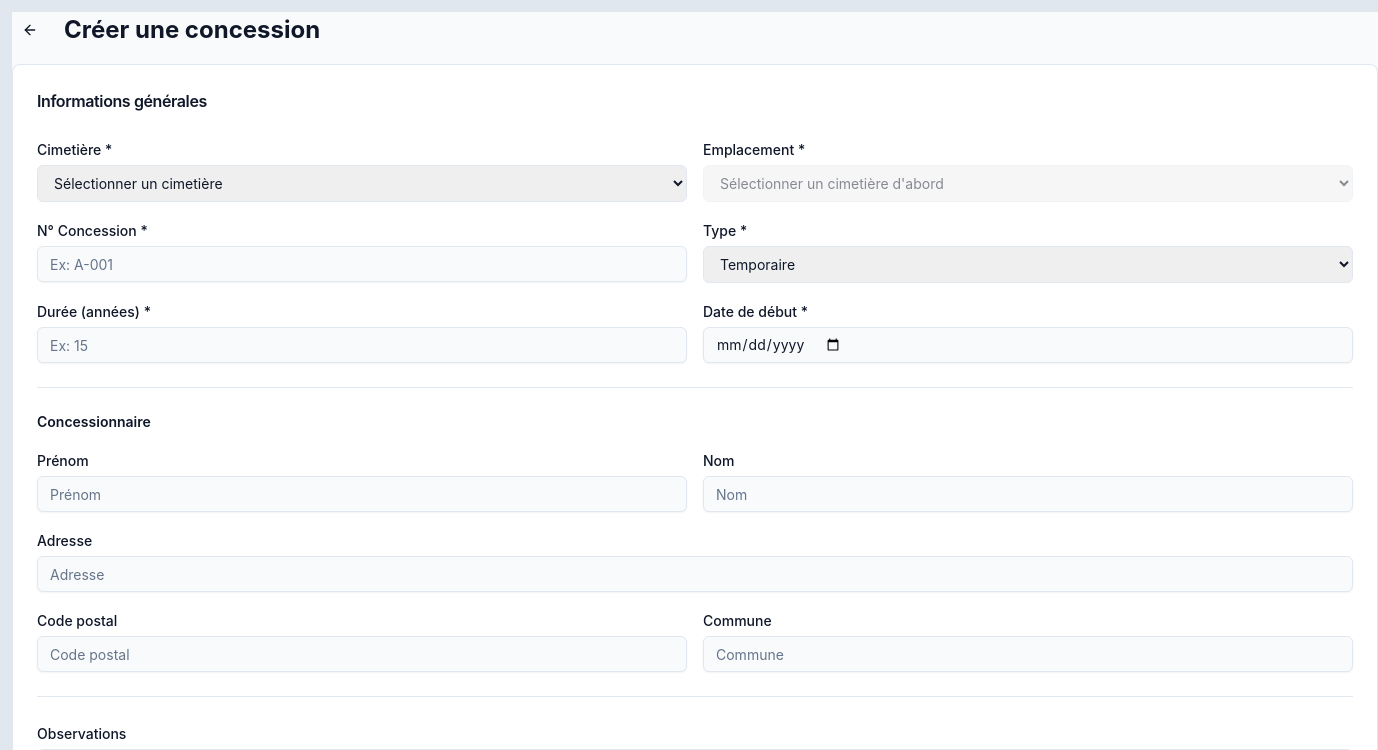
Test: ConcessionCreatePage › adapts duration field for different types
Check: the number field labelled "Durée (années) *" is shown, box [37,327,687,363]
# Select TRENTENAIRE - should show read-only "30 ans"
Select "30 ans" in the dropdown labelled "Type *" at (1028, 264), box [703,246,1353,283]
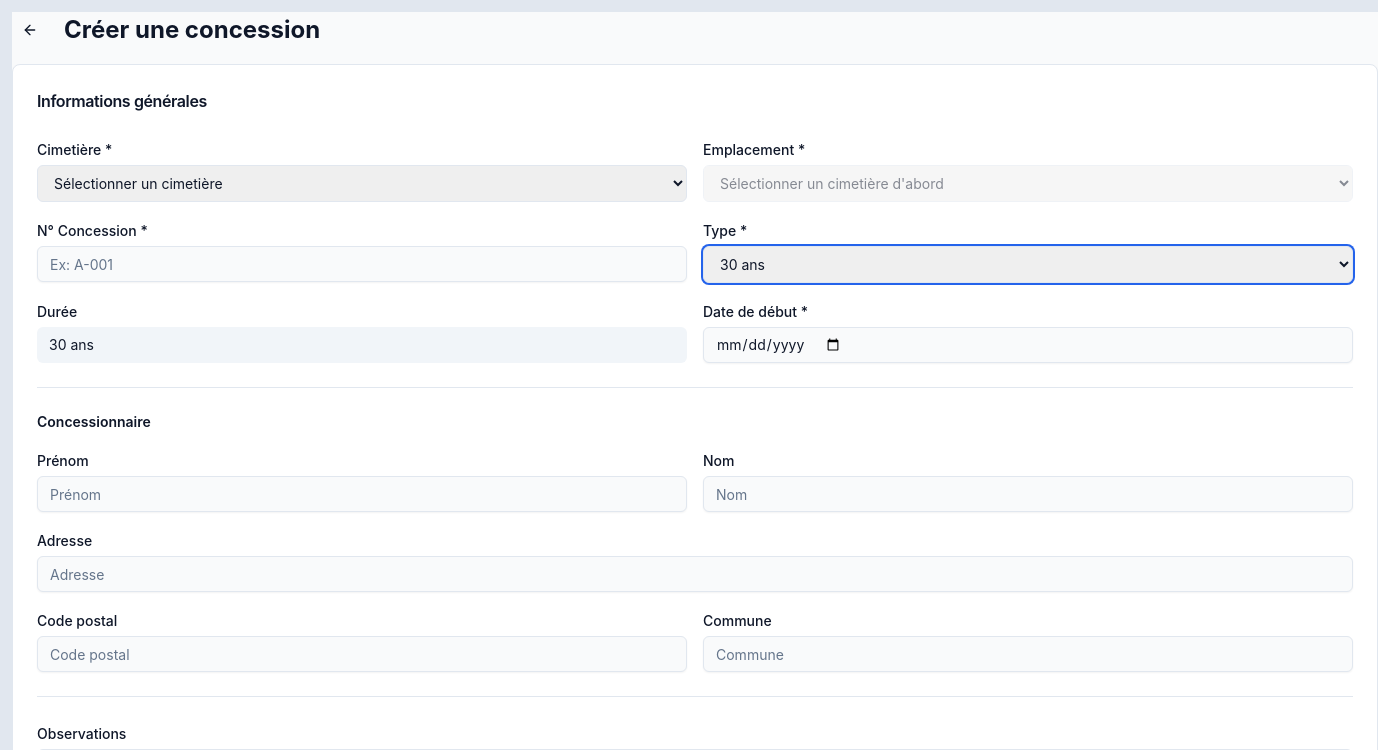
Check: the text "Durée" is shown, box [37,303,77,320]
Check: the label labelled "Durée (années)" is gone
# Select CINQUANTENAIRE - should show read-only "50 ans"
Select "50 ans" in the dropdown labelled "Type *" at (1028, 264), box [703,246,1353,283]
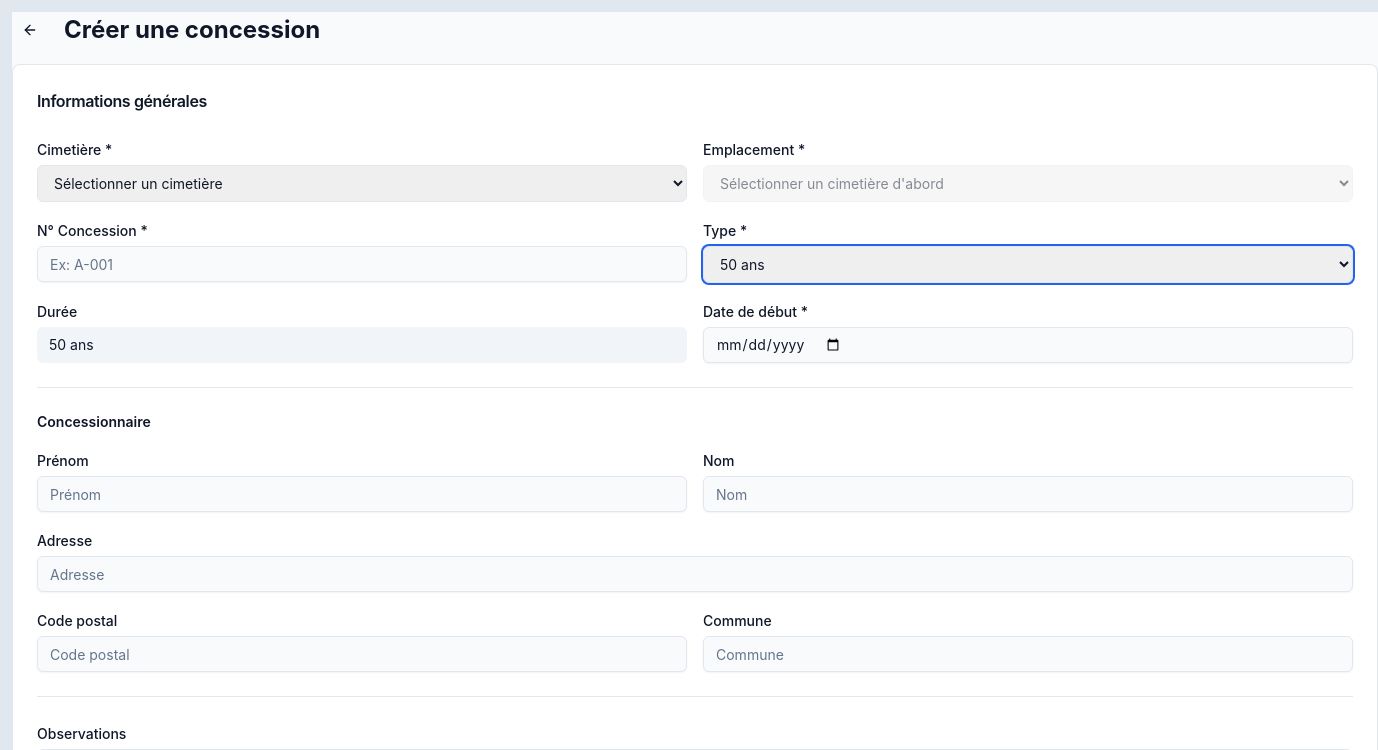
Check: the label labelled "Durée (années)" is not shown
# Select PERPETUELLE - should hide duration completely
Select "Perpétuelle" in the dropdown labelled "Type *" at (1028, 264), box [703,246,1353,283]
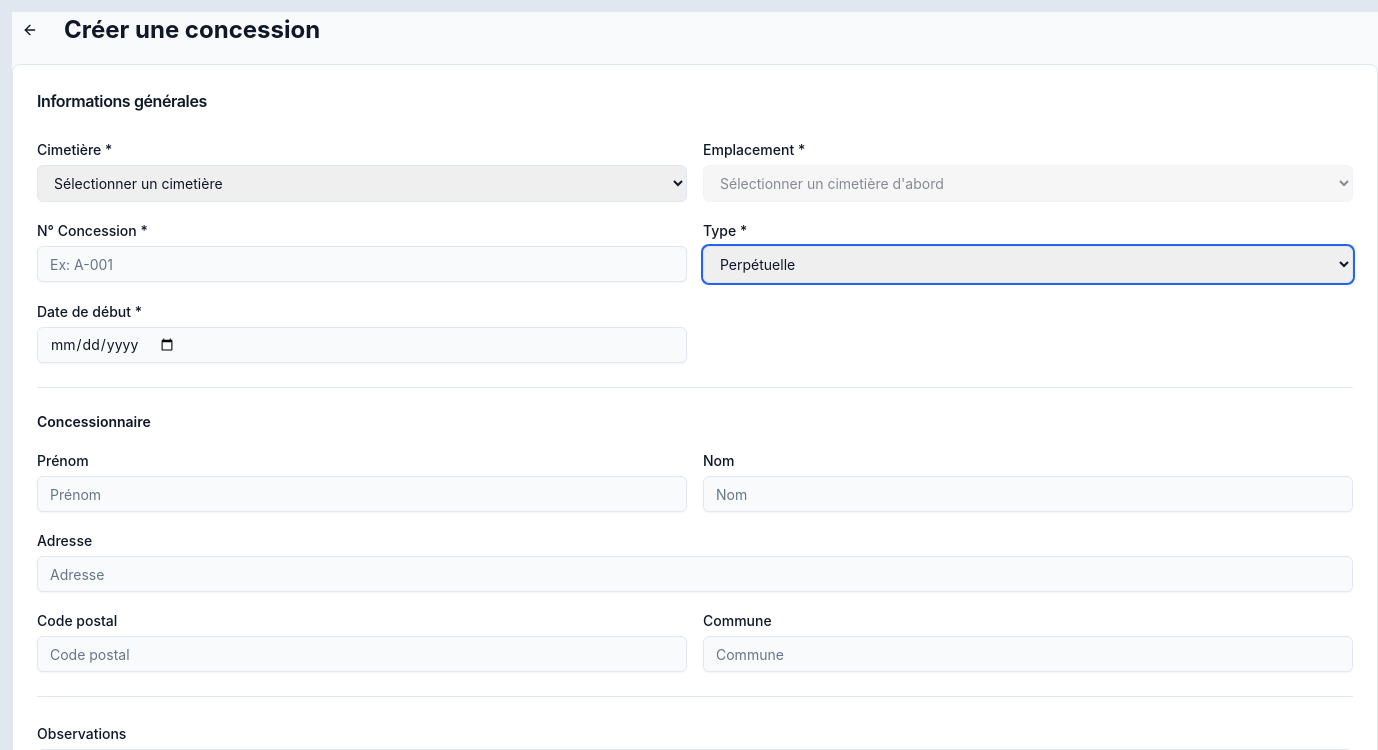
Check: the label labelled "Durée" is gone
# Back to TEMPORAIRE - should show editable field again
Select "Temporaire" in the dropdown labelled "Type *" at (1028, 264), box [703,246,1353,283]
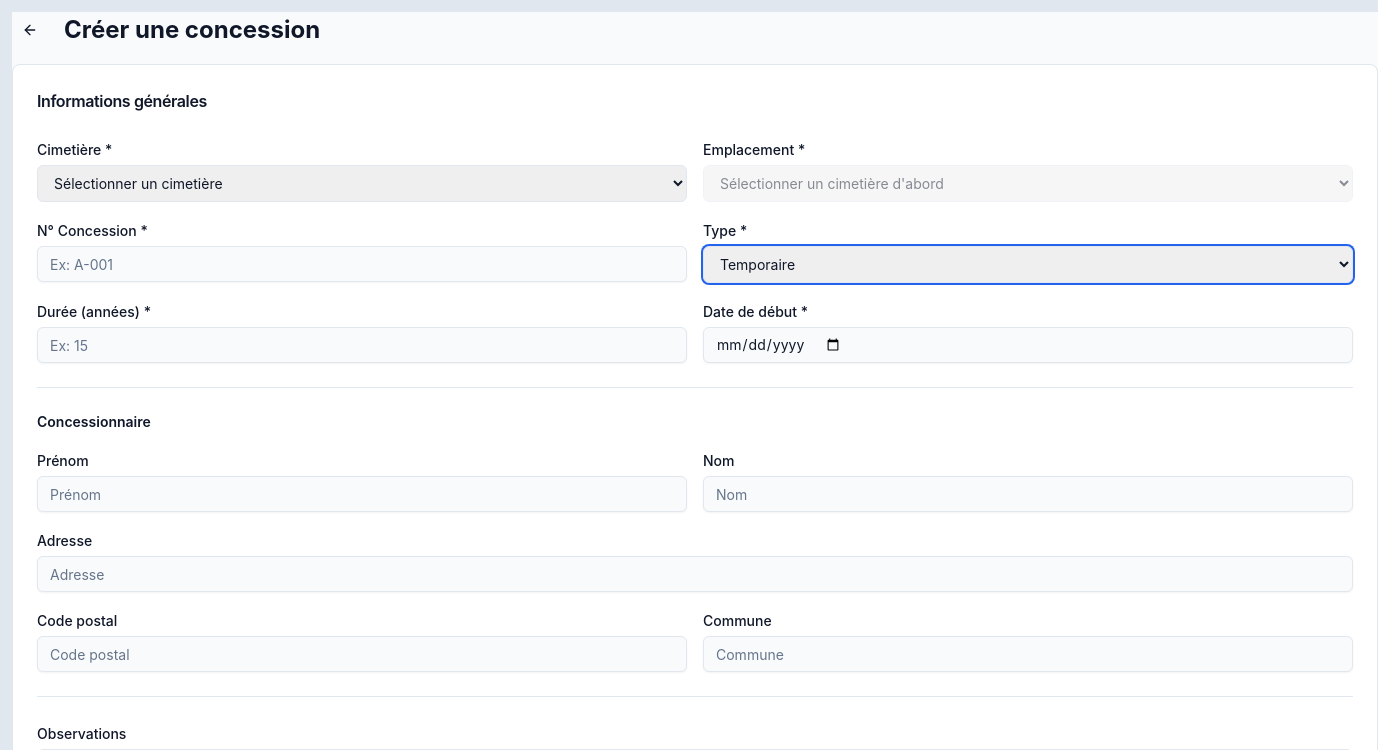
Check: the number field labelled "Durée (années) *" is shown, box [37,327,687,363]
